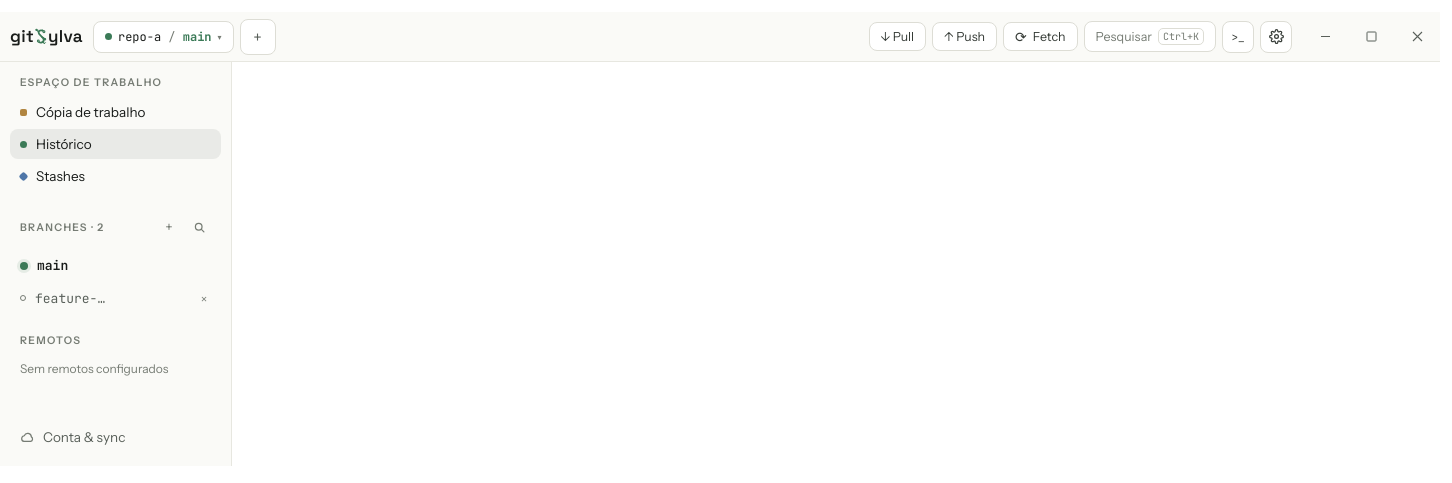
Repo switch: the repo dropdown updates the active repo and dependent views refetch its data › switching to repo B updates appStore.repo and the sidebar now shows repo B's branches, not repo A's
Expected: the button "main" is shown, [20,257,68,274]
What coordinates should you click on to do the following:
click the button "repo-a / main ▾"
I would click on:
 (163, 36)
Its box is [93,20,234,52].
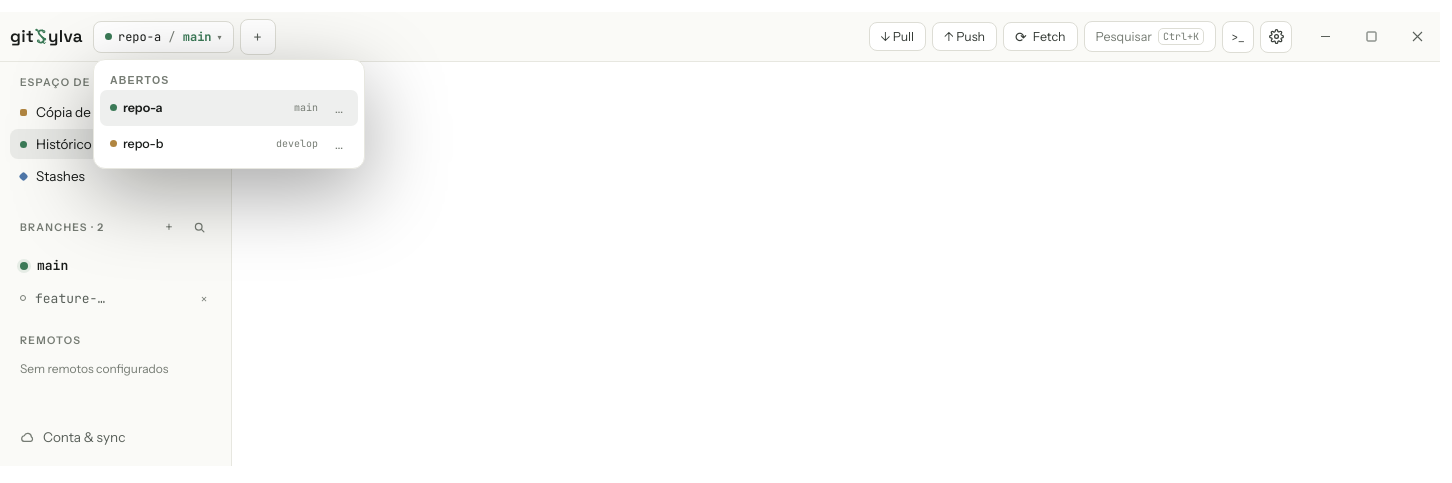
What coordinates should you click on to do the following:
click the text "repo-b"
I would click on:
 (143, 144)
Its box is [123,136,163,151].
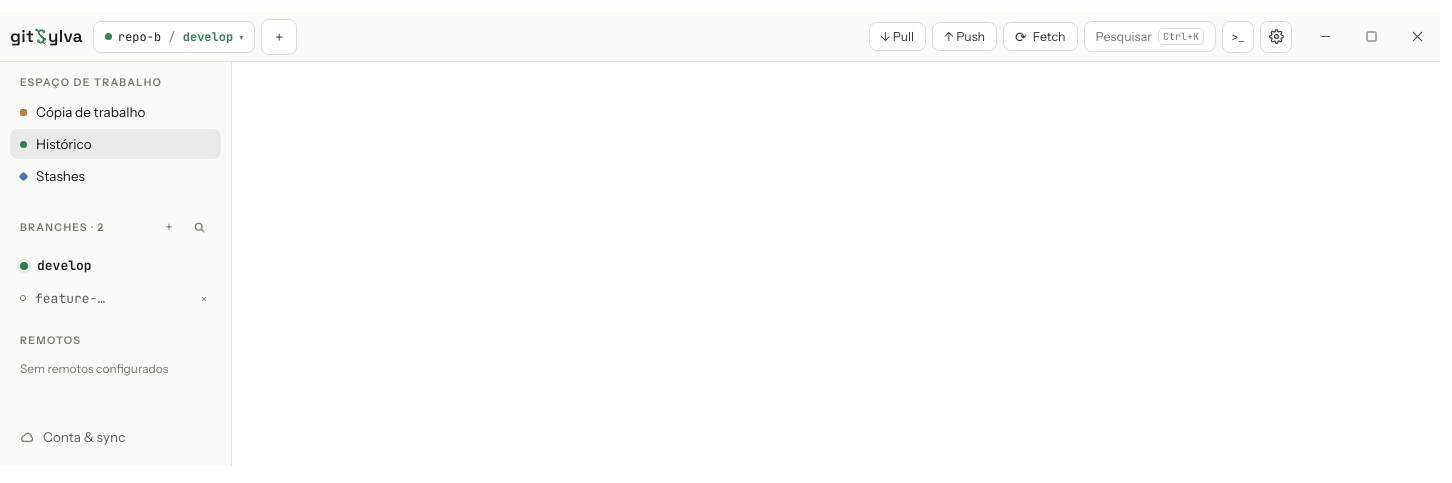
Expected: the button "feature-b-only ✕" is shown, [20,290,211,306]
Now the button "develop" is shown, box [20,257,92,274]
Now the button "main" is gone
